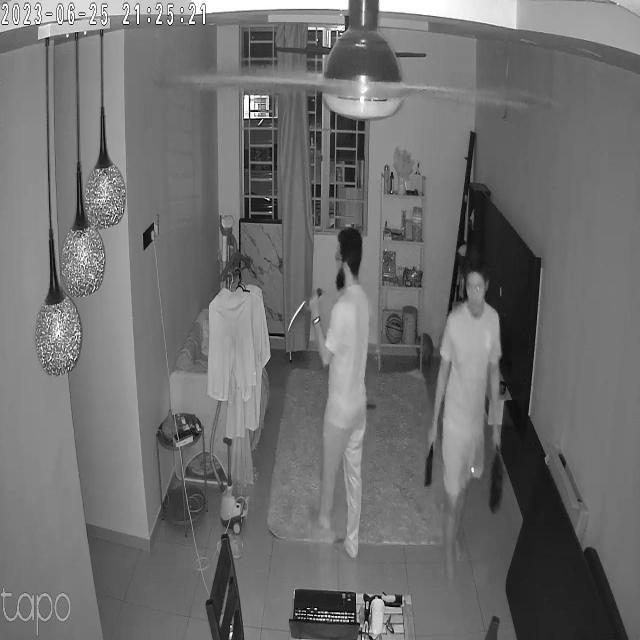Knife: (282, 280, 328, 338)
